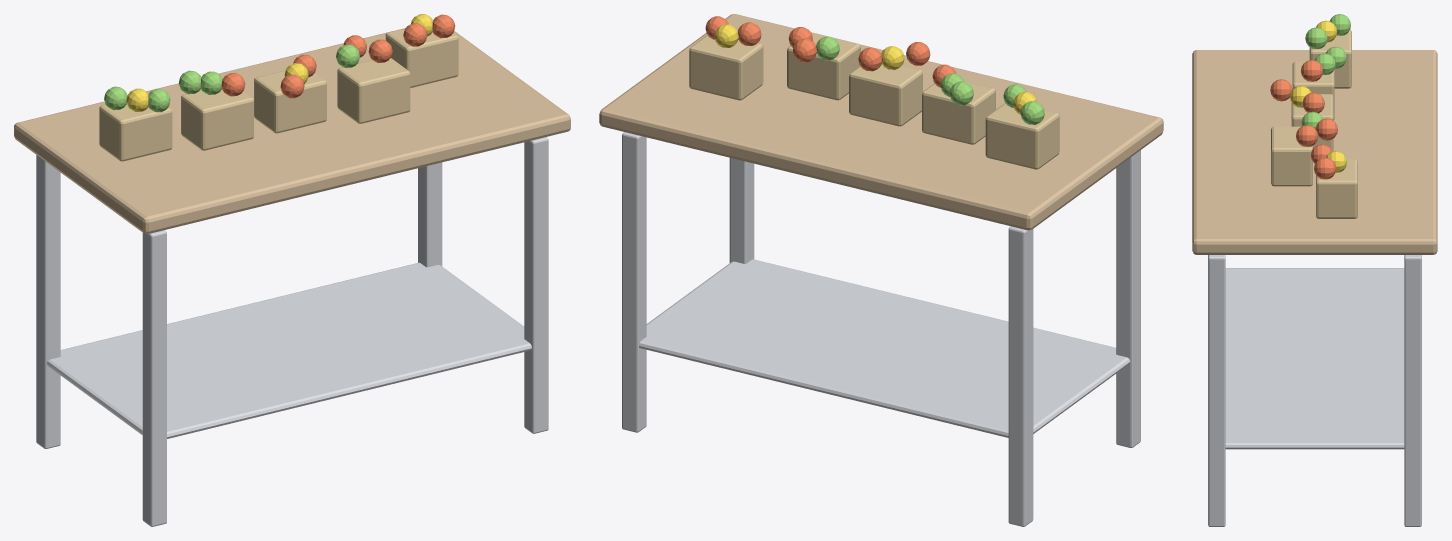
The model's file is shop_table.glb.
3 renders of one model, left to right at view 1: azimuth 30°, elevation 25°; view 2: azimuth 150°, elevation 25°; view 3: azimuth 270°, elevation 25°, orthographic. The views are drawn at different scales.
Visible parts, largest first — view 1: Shop_Table; view 2: Shop_Table; view 3: Shop_Table.
Boxes of the visible parts, x1,y1,x2,y2 form: Shop_Table: (14, 14, 570, 526); Shop_Table: (599, 14, 1163, 526); Shop_Table: (1192, 14, 1437, 526).
Size of the model in its own units: 1.3 by 1.1 by 0.7.
